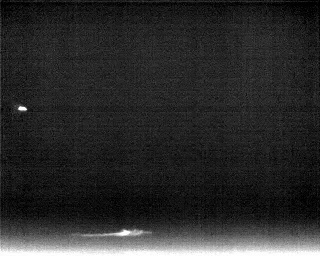AIRPLANE: (16, 103, 29, 114)
